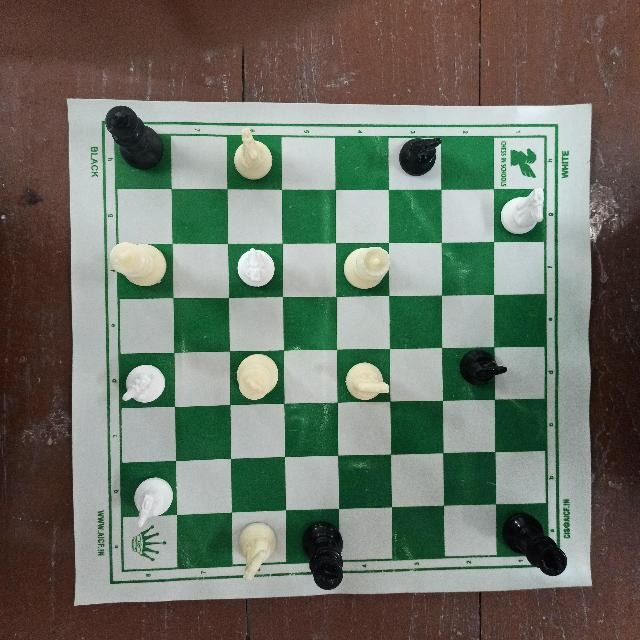black-king: (501, 507, 576, 577), (101, 101, 164, 176), (299, 511, 345, 597)
black-knight: (394, 130, 447, 179), (460, 348, 508, 397)
white-king: (104, 239, 177, 294), (232, 350, 287, 406)
white-knight: (226, 239, 289, 295), (233, 516, 282, 586), (225, 126, 282, 184), (499, 186, 553, 243), (121, 469, 174, 527), (118, 360, 170, 412), (339, 361, 395, 407)
white-queen: (341, 241, 391, 291)
